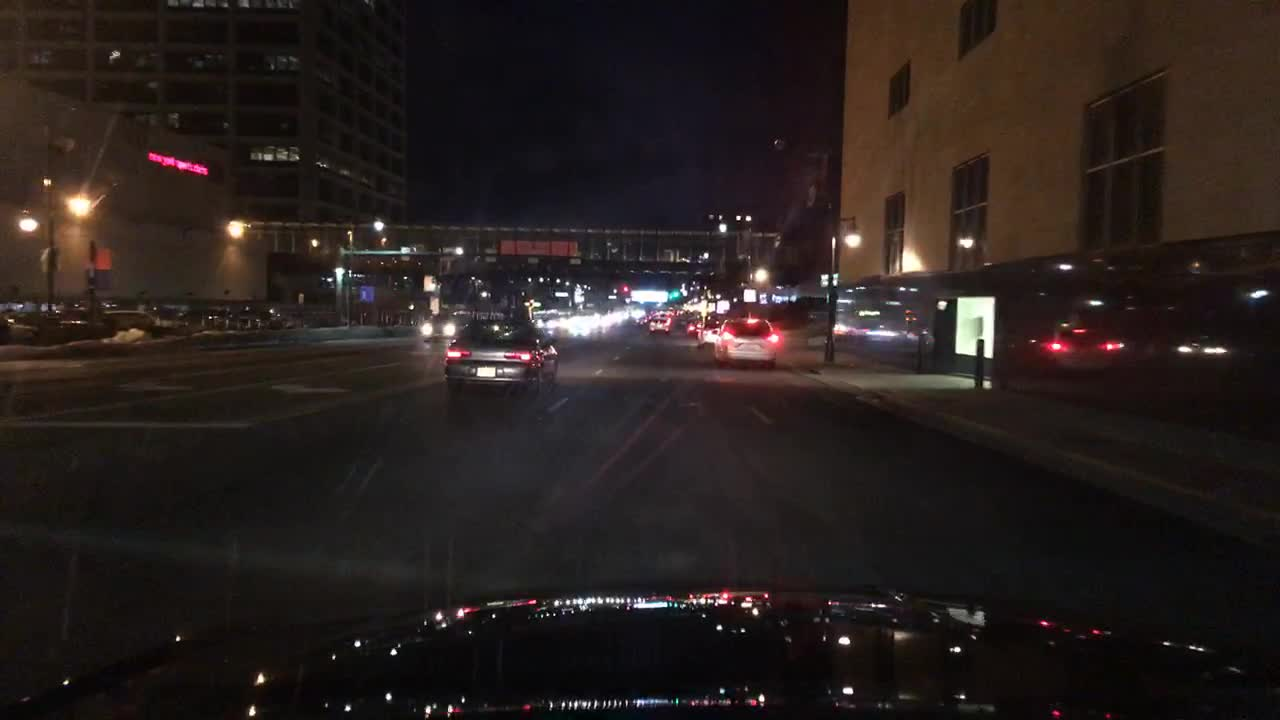car: (440, 315, 562, 402), (810, 286, 933, 364), (1022, 319, 1118, 371), (712, 315, 782, 370), (0, 309, 61, 345), (99, 306, 156, 343), (149, 302, 204, 339), (418, 310, 472, 344), (53, 304, 102, 341), (263, 308, 317, 331), (694, 316, 728, 350), (200, 305, 247, 329), (560, 315, 607, 339), (238, 305, 273, 331), (647, 312, 674, 335), (531, 315, 562, 335), (683, 317, 706, 337), (651, 306, 675, 319), (628, 305, 646, 321), (818, 273, 827, 286)
person: (931, 300, 957, 373)
traffic light: (617, 281, 628, 294)
traffic sign: (498, 239, 580, 255), (358, 284, 374, 302), (551, 289, 569, 297), (297, 289, 305, 304), (831, 273, 841, 285), (605, 293, 616, 301)
